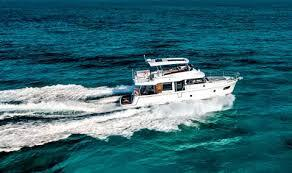Ship: (118, 57, 241, 112)
